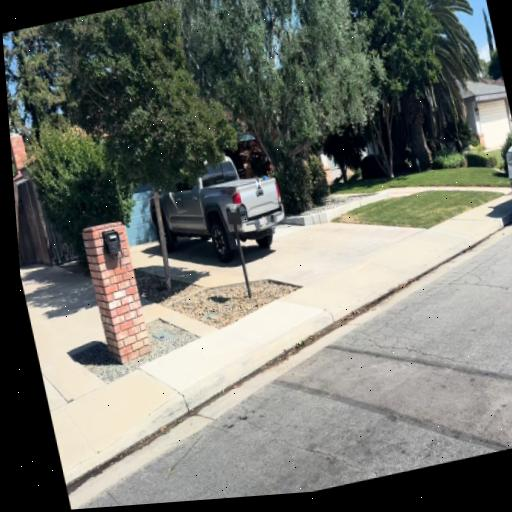target1: (255, 177, 263, 190)
